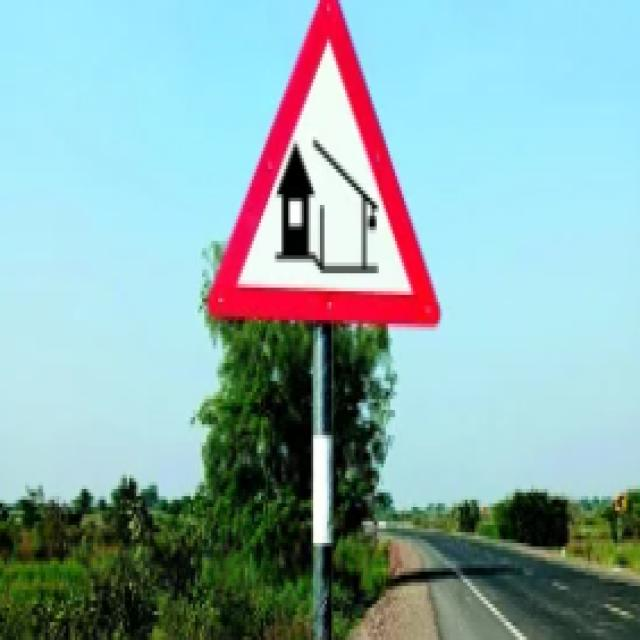BARRIER_AHEAD: (207, 7, 441, 349)
